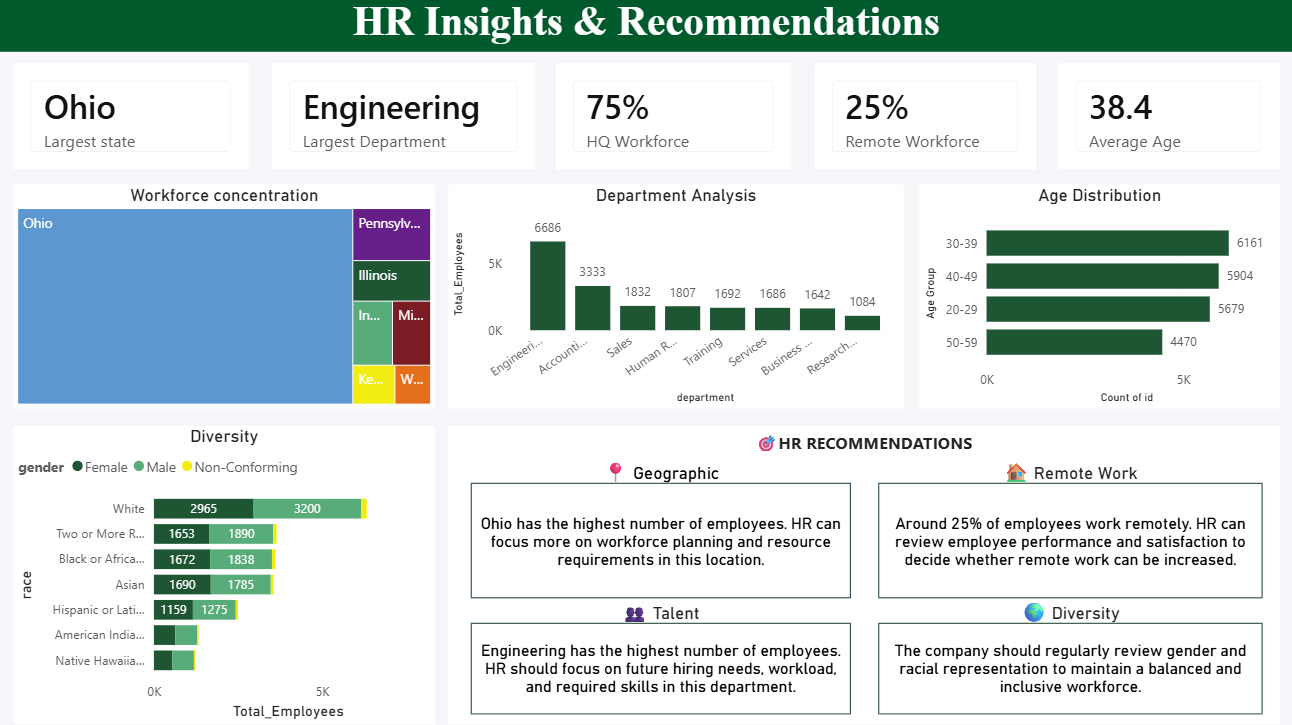

This screenshot's page, from the dashboard's own definition file:
{"tool":"powerbi","page":{"name":"Insights","canvas":[1280,720],"ordinal":1},"visuals":[{"type":"textbox","title":"HR Insights & Recommendations","box":[0,0,1280.3,53.8],"z":0},{"type":"cardVisual","fields":{"Data":["Min(HR.location_state)"]},"box":[20.6,64.5,230.5,104.3],"z":1000},{"type":"cardVisual","fields":{"Data":["Min(HR.department)"]},"box":[274.4,64.5,258,104.3],"z":2000},{"type":"cardVisual","fields":{"Data":["HR.HQ Workers"]},"box":[551.6,64.5,230.5,104.3],"z":3000},{"type":"cardVisual","fields":{"Data":["HR.Remote Workers"]},"box":[804.1,64.5,216.8,104.3],"z":4000},{"type":"cardVisual","fields":{"Data":["HR.Average Age"]},"box":[1042.9,64.5,216.8,104.3],"z":5000},{"type":"treemap","title":"Workforce concentration","fields":{"Details":["HR.location_state"],"Values":["HR.Total_Employees"]},"box":[20.6,183.9,413,219.6],"z":6000},{"type":"clusteredColumnChart","title":"Department Analysis","fields":{"Category":["HR.department"],"Y":["HR.Total_Employees"]},"box":[446,183.9,446,219.6],"z":7000},{"type":"clusteredBarChart","title":"Age Distribution","fields":{"Category":["HR.Age Group"],"Y":["CountNonNull(HR.id)"]},"box":[907,183.9,352.7,219.6],"z":8000},{"type":"barChart","title":"Diversity","fields":{"Category":["HR.race"],"Series":["HR.gender"],"Y":["HR.Total_Employees"]},"box":[20.6,419.9,413,292.3],"z":9000},{"type":"textbox","box":[446,419.9,813.7,292.3],"z":10000},{"type":"shape","title":"📍 Geographic","box":[467.9,451.5,371.9,137.2],"z":11000},{"type":"shape","title":"🏠 Remote Work","box":[867.2,451.5,376,137.2],"z":12000},{"type":"shape","title":"👥 Talent","box":[467.9,588.7,371.9,113.9],"z":13000},{"type":"shape","title":"🌍 Diversity","box":[867.2,588.7,376,113.9],"z":14000}]}

Visuals, with their boxes in screenshot pixels (x1, y1, x2, y2), scaled from the page's 1280x720 canvas onto the 1292x725 screenshot:
"HR Insights & Recommendations" textbox: 0/0/1291/54
cardVisual - Min(HR.location_state): 21/65/253/170
cardVisual - Min(HR.department): 277/65/537/170
cardVisual - HR.HQ Workers: 557/65/789/170
cardVisual - HR.Remote Workers: 812/65/1030/170
cardVisual - HR.Average Age: 1053/65/1272/170
"Workforce concentration" treemap: 21/185/438/406
"Department Analysis" clusteredColumnChart: 450/185/900/406
"Age Distribution" clusteredBarChart: 916/185/1272/406
"Diversity" barChart: 21/423/438/717
textbox: 450/423/1272/717
"📍 Geographic" shape: 472/455/848/593
"🏠 Remote Work" shape: 875/455/1255/593
"👥 Talent" shape: 472/593/848/707
"🌍 Diversity" shape: 875/593/1255/707
